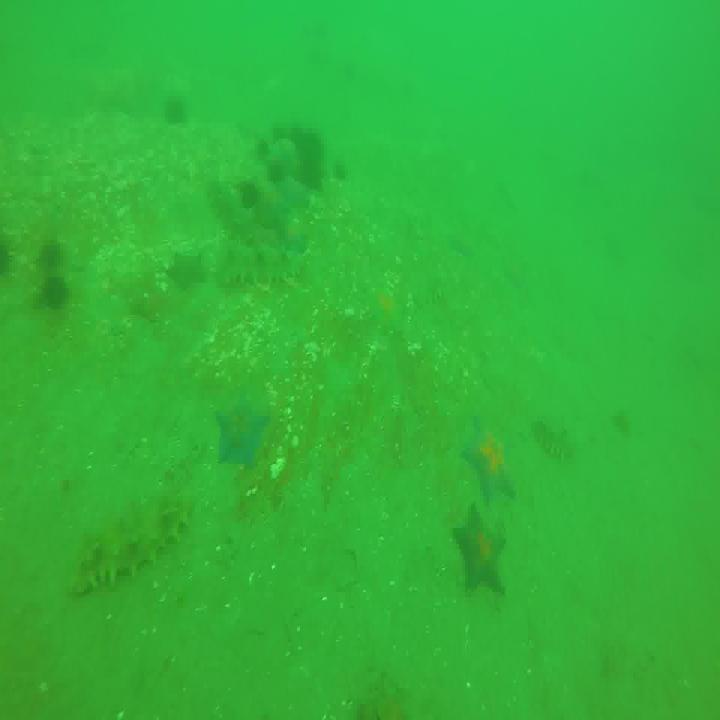echinus: (38, 272, 73, 313), (297, 150, 325, 194), (239, 168, 262, 212), (297, 125, 324, 161), (38, 238, 60, 269), (278, 126, 298, 155), (165, 95, 182, 127)
holothurian: (70, 488, 194, 592), (208, 178, 278, 252), (214, 249, 307, 289), (531, 416, 576, 461)
starfish: (461, 410, 518, 504), (455, 500, 506, 592), (219, 399, 272, 472), (168, 250, 212, 292), (370, 286, 409, 333), (268, 168, 304, 210)
